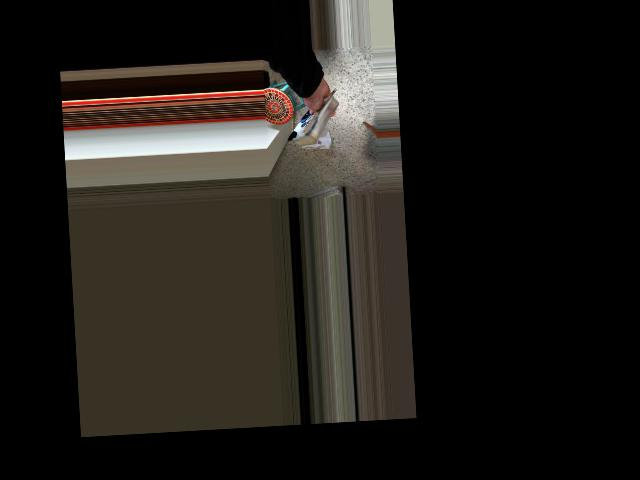cheese: (276, 78, 347, 156)
